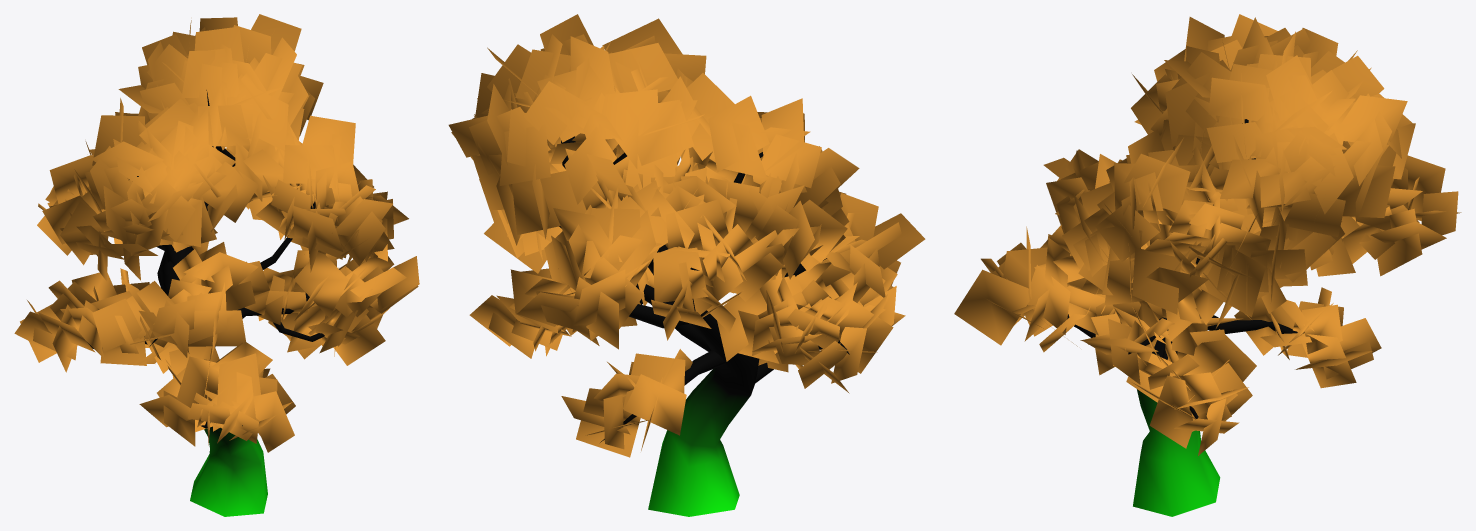
File: SM_KnotwoodTree01.fbx
3 renders of one model, left to right at view 1: azimuth 30°, elevation 25°; view 2: azimuth 150°, elevation 25°; view 3: azimuth 270°, elevation 25°, orthographic. The views are drawn at different scales.
Parts seen in each view (by area): view 1: SM_KnotwoodTree01_LOD0; view 2: SM_KnotwoodTree01_LOD0; view 3: SM_KnotwoodTree01_LOD0.
Part boxes in pixels (x1=…): SM_KnotwoodTree01_LOD0: x1=14, y1=14, x2=419, y2=516; SM_KnotwoodTree01_LOD0: x1=448, y1=14, x2=925, y2=516; SM_KnotwoodTree01_LOD0: x1=954, y1=14, x2=1461, y2=516.
Size of what is drawn, in the model's own units: 1471 by 1706 by 1640.
